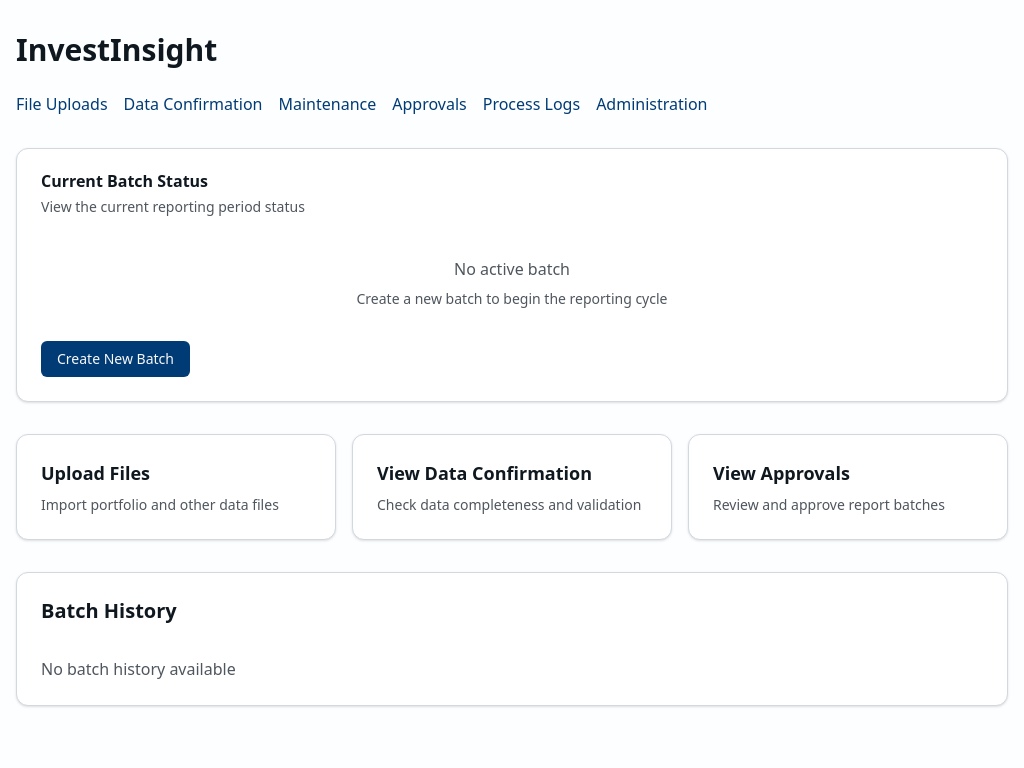
Scenario: Epic 1, Story 2: Start Page - Batch Creation › Happy Path › displays success message after batch is created
This screenshot has width=1024, height=768.
Click the button "Create New Batch": (116, 359) [41,341,190,377]
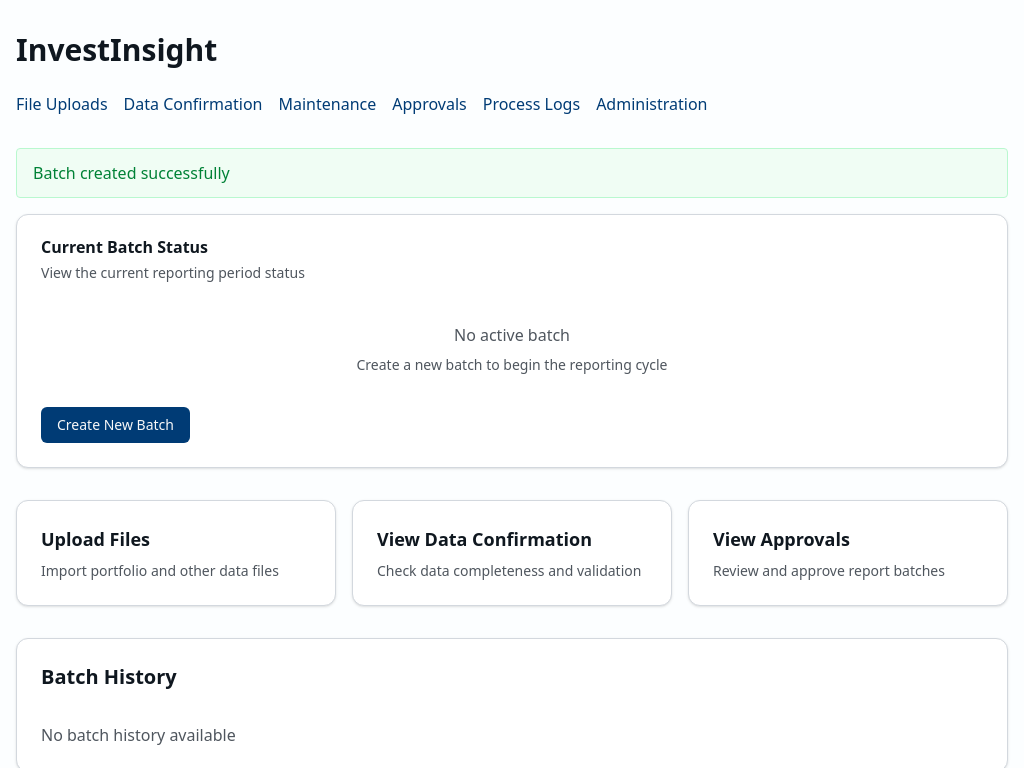
expect the text "Batch created successfully" is shown: met, box [16,148,1008,198]
